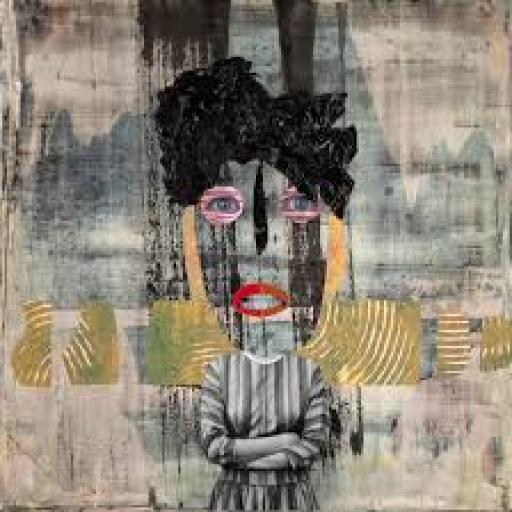person: (155, 60, 364, 510)
